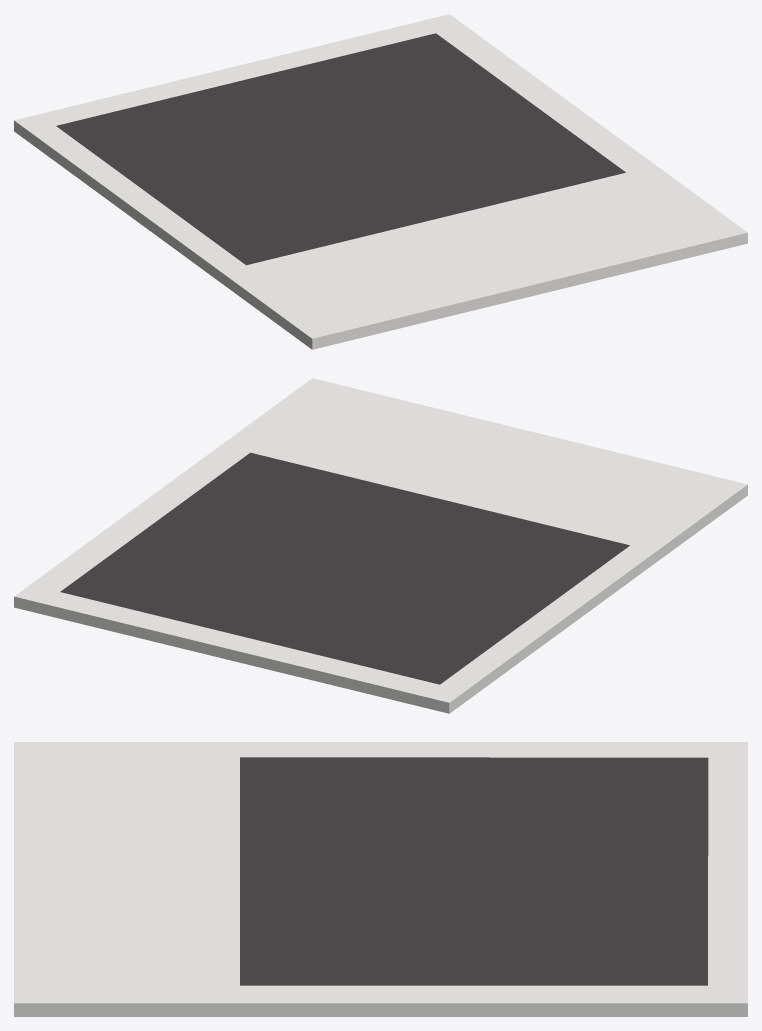
File: Photo_1.glb
3 views of the same model, one above another, from view 1: azimuth 30°, elevation 25°; view 2: azimuth 150°, elevation 25°; view 3: azimuth 270°, elevation 25° (orthographic). The views are drawn at different scales.
Visible parts, largest first — view 1: Photo_1; view 2: Photo_1; view 3: Photo_1.
Boxes of the visible parts, x1=… form: Photo_1: x1=14, y1=14, x2=747, y2=349; Photo_1: x1=14, y1=378, x2=747, y2=713; Photo_1: x1=14, y1=742, x2=747, y2=1016.
Bounding box in the file's own units: 0.1388 × 0.00335 × 0.1647.
1 material, 1 textured.
